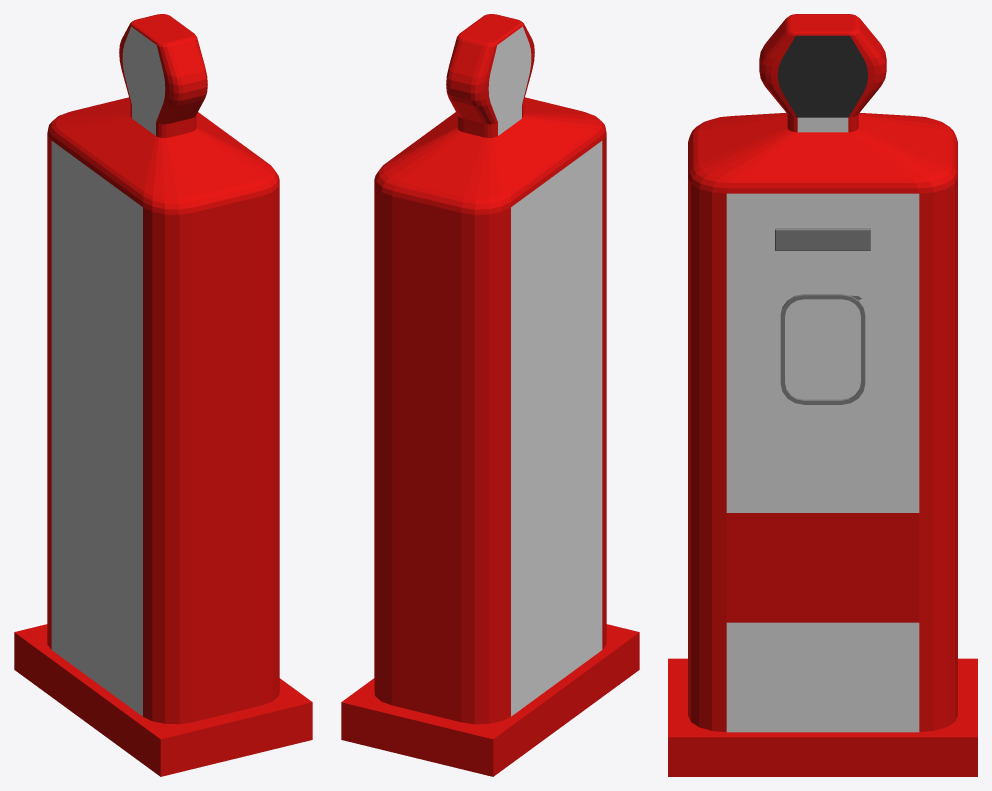
File: gasPump.fbx
The picture shows the model from 3 angles, left to right: view 1: azimuth 30°, elevation 25°; view 2: azimuth 150°, elevation 25°; view 3: azimuth 270°, elevation 25°; orthographic projection. The views are drawn at different scales.
Parts seen in each view (by area): view 1: Cube; view 2: Cube; view 3: Cube.
Boxes of the visible parts, x1,y1,x2,y2 form: Cube: (14, 14, 312, 776); Cube: (341, 14, 639, 776); Cube: (668, 14, 977, 776).
Bounding box in the file's own units: 120 × 509 × 200.
